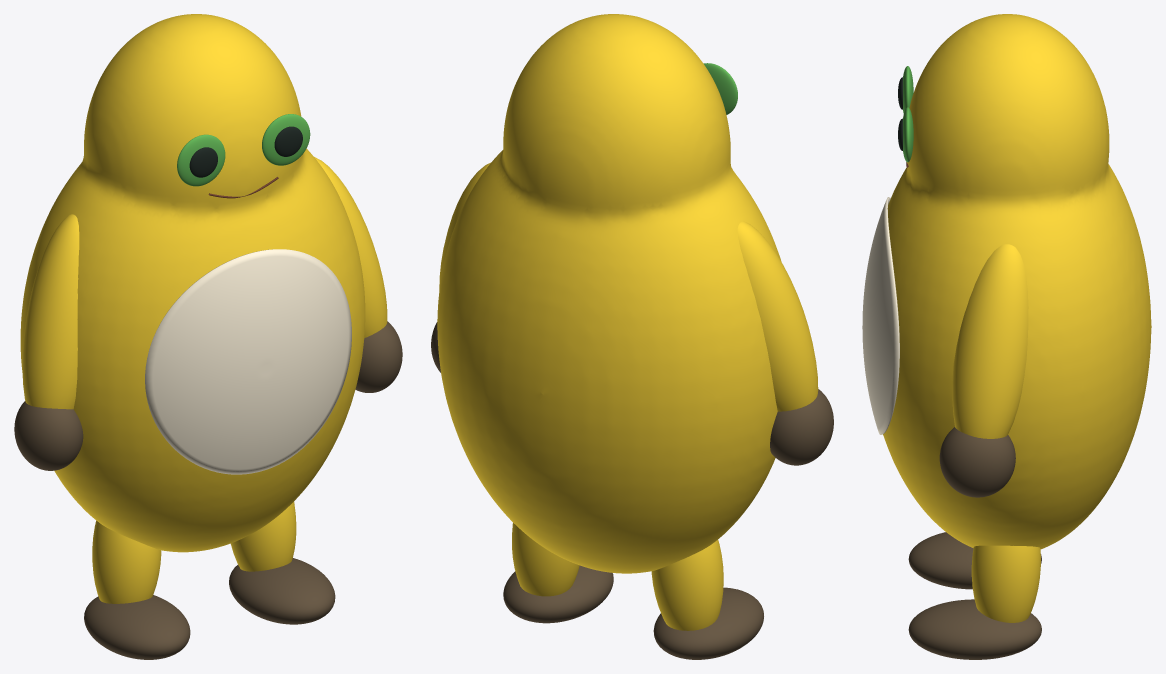
Rendered from nailong-runner.glb.
3 views of the same model, side by side, from view 1: azimuth 30°, elevation 25°; view 2: azimuth 150°, elevation 25°; view 3: azimuth 270°, elevation 25° (orthographic). The views are drawn at different scales.
Visible parts, largest first — view 1: BIG_NAIWA_body_merged, BIG_NAIWA_belly_patch, BIG_NAIWA_arm_L, BIG_NAIWA_shoe_L, BIG_NAIWA_shoe_R, BIG_NAIWA_leg_L, BIG_NAIWA_glove_L, BIG_NAIWA_arm_R, BIG_NAIWA_leg_R, BIG_NAIWA_glove_R, BIG_NAIWA_eye_L_green_sclera, BIG_NAIWA_eye_R_green_sclera (+2 smaller); view 2: BIG_NAIWA_body_merged, BIG_NAIWA_arm_L, BIG_NAIWA_leg_L, BIG_NAIWA_shoe_L, BIG_NAIWA_shoe_R, BIG_NAIWA_glove_L, BIG_NAIWA_leg_R, BIG_NAIWA_eye_L_green_sclera, BIG_NAIWA_arm_R; view 3: BIG_NAIWA_body_merged, BIG_NAIWA_arm_R, BIG_NAIWA_belly_patch, BIG_NAIWA_shoe_R, BIG_NAIWA_leg_R, BIG_NAIWA_glove_R, BIG_NAIWA_shoe_L, BIG_NAIWA_eye_R_green_sclera.
Part boxes in pixels (bbox=[...]): BIG_NAIWA_body_merged: bbox=[20, 14, 365, 552]; BIG_NAIWA_belly_patch: bbox=[145, 249, 351, 474]; BIG_NAIWA_arm_L: bbox=[22, 214, 79, 409]; BIG_NAIWA_shoe_L: bbox=[84, 595, 190, 659]; BIG_NAIWA_shoe_R: bbox=[229, 558, 335, 624]; BIG_NAIWA_leg_L: bbox=[92, 520, 161, 603]; BIG_NAIWA_glove_L: bbox=[14, 401, 83, 470]; BIG_NAIWA_arm_R: bbox=[314, 157, 387, 337]; BIG_NAIWA_leg_R: bbox=[230, 502, 296, 571]; BIG_NAIWA_glove_R: bbox=[355, 321, 402, 392]; BIG_NAIWA_eye_L_green_sclera: bbox=[177, 134, 225, 186]; BIG_NAIWA_eye_R_green_sclera: bbox=[262, 114, 310, 165]; BIG_NAIWA_body_merged: bbox=[437, 14, 781, 573]; BIG_NAIWA_arm_L: bbox=[737, 221, 818, 411]; BIG_NAIWA_leg_L: bbox=[651, 540, 723, 630]; BIG_NAIWA_shoe_L: bbox=[653, 587, 763, 659]; BIG_NAIWA_shoe_R: bbox=[503, 565, 613, 623]; BIG_NAIWA_glove_L: bbox=[770, 389, 833, 465]; BIG_NAIWA_leg_R: bbox=[512, 523, 579, 596]; BIG_NAIWA_eye_L_green_sclera: bbox=[703, 63, 737, 114]; BIG_NAIWA_arm_R: bbox=[439, 162, 490, 289]; BIG_NAIWA_body_merged: bbox=[883, 14, 1151, 549]; BIG_NAIWA_arm_R: bbox=[952, 244, 1028, 438]; BIG_NAIWA_belly_patch: bbox=[862, 197, 899, 434]; BIG_NAIWA_shoe_R: bbox=[908, 599, 1041, 659]; BIG_NAIWA_leg_R: bbox=[971, 545, 1040, 622]; BIG_NAIWA_glove_R: bbox=[939, 427, 1015, 497]; BIG_NAIWA_shoe_L: bbox=[908, 532, 1041, 589]; BIG_NAIWA_eye_R_green_sclera: bbox=[903, 107, 913, 162].
Size of the model in its own units: 1.82 by 2.75 by 1.21.
